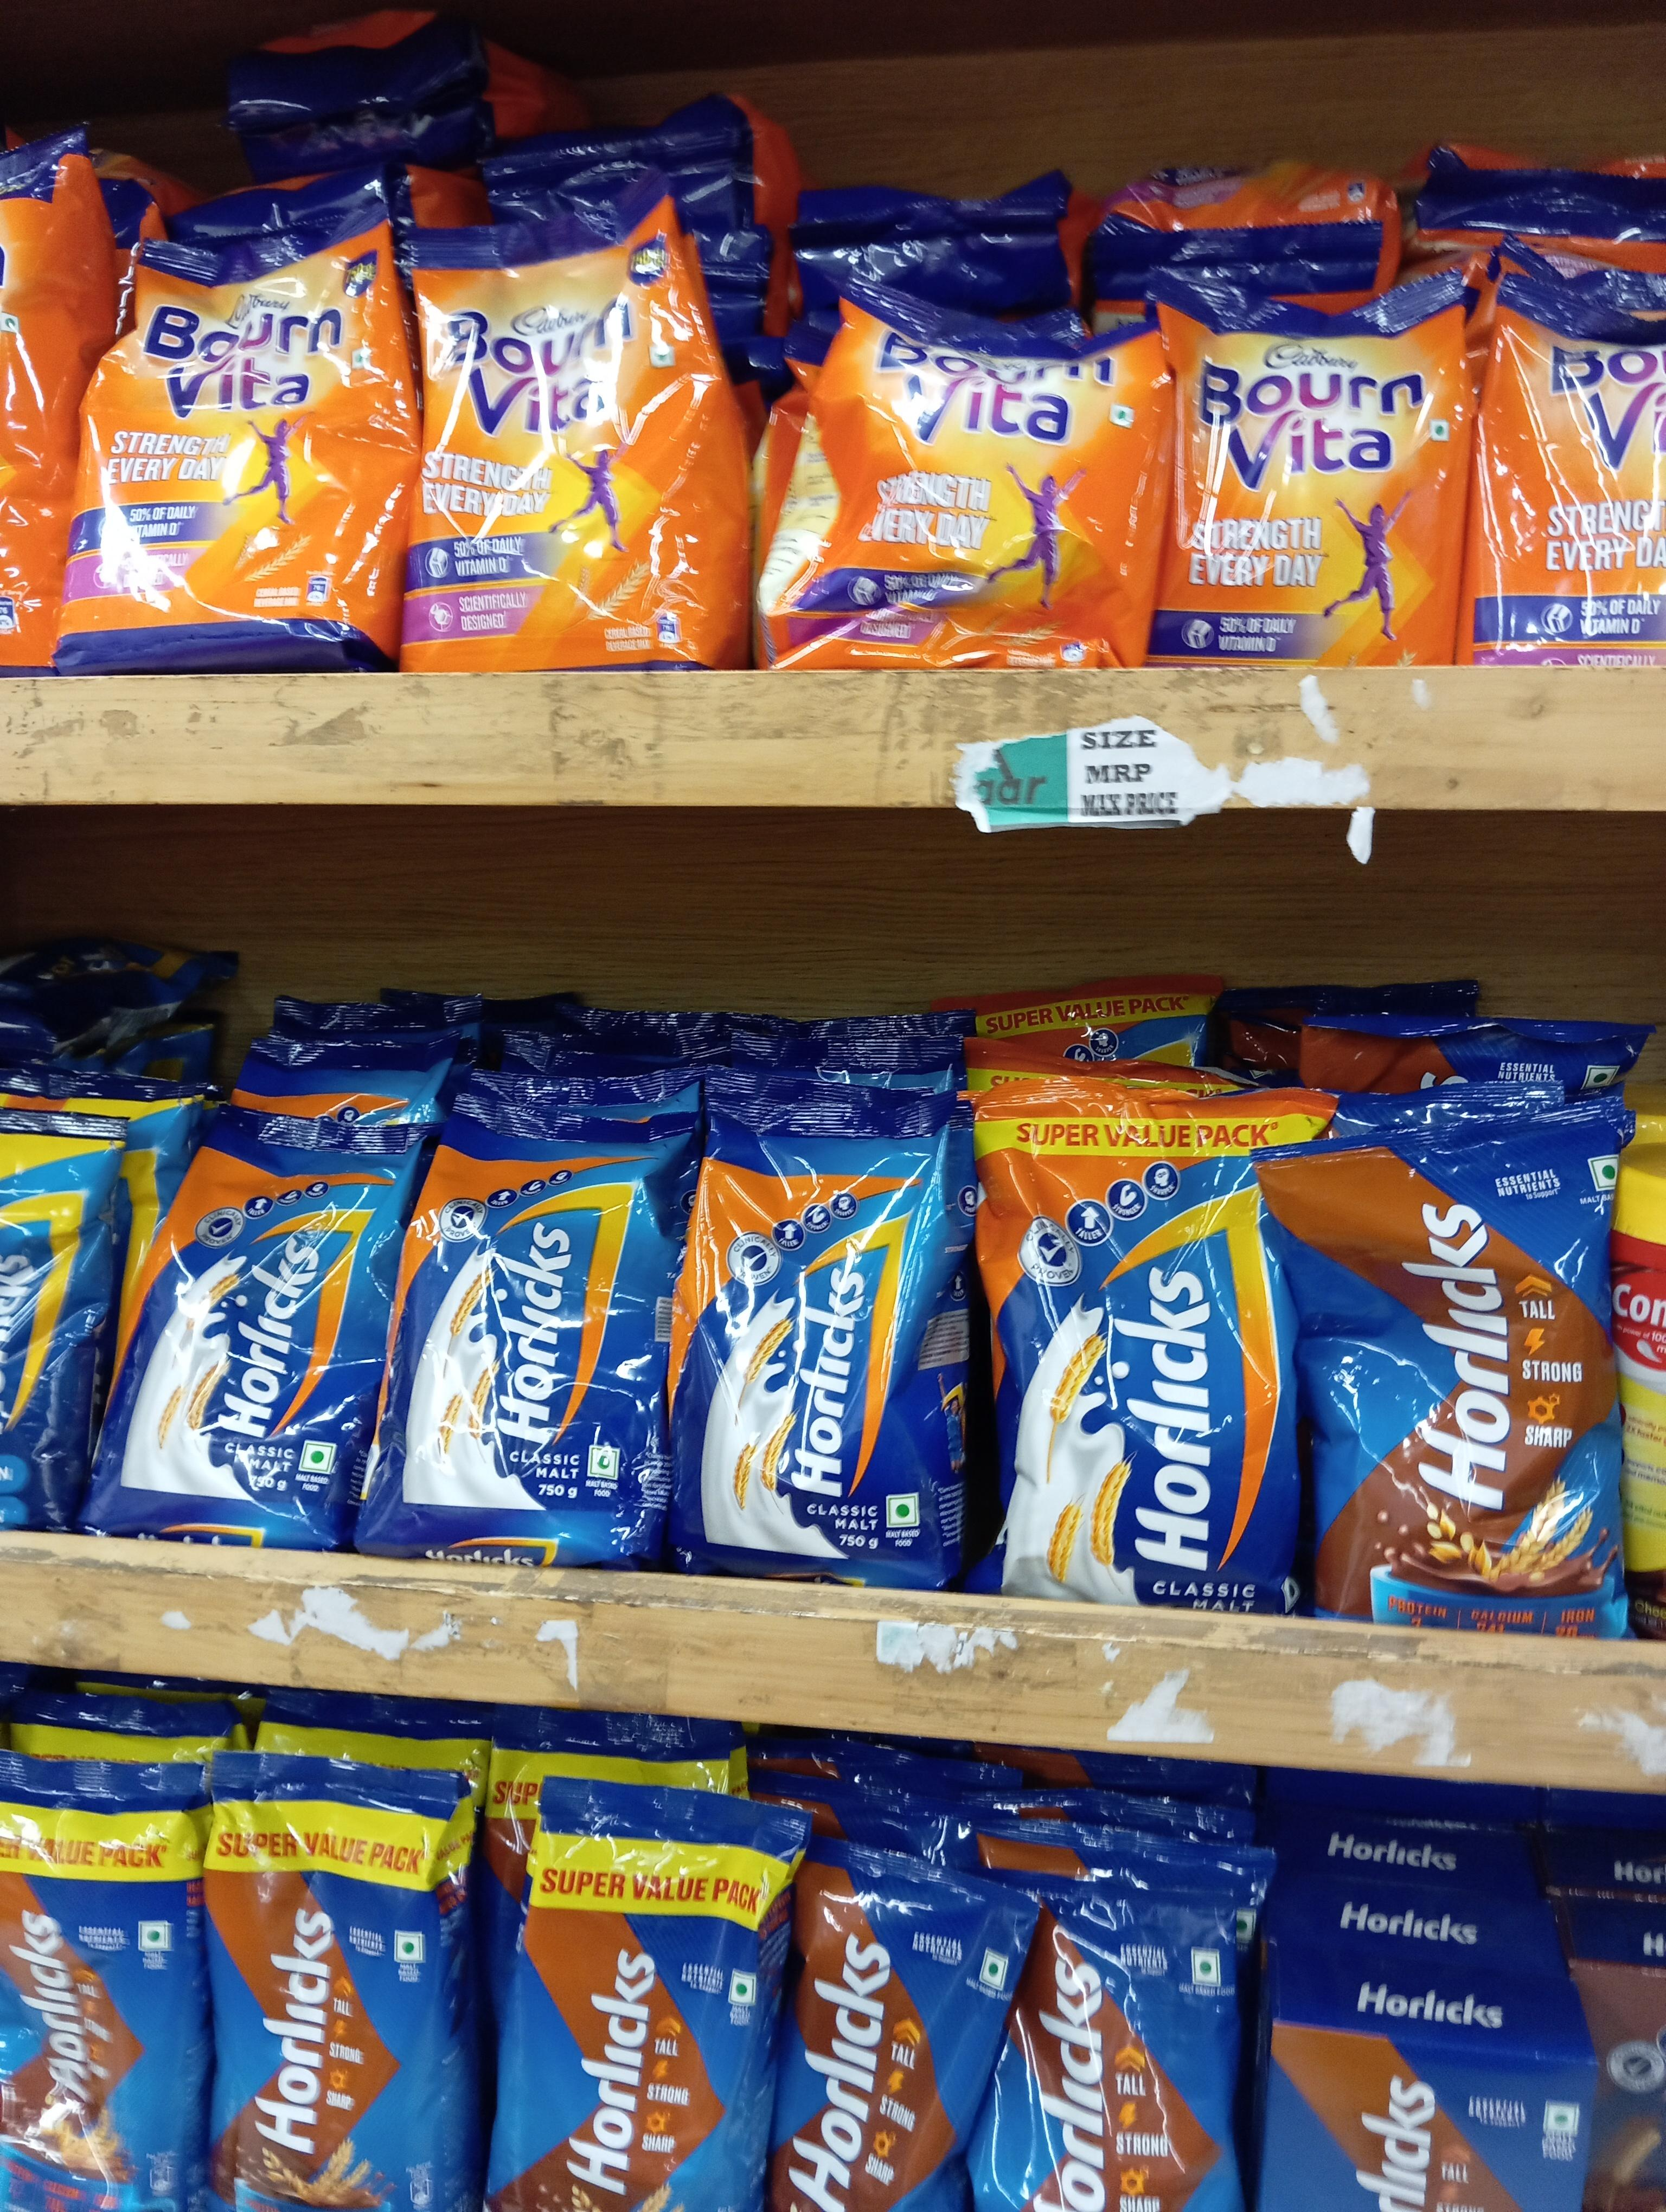BOURN_VITA_500_G_POUCH: (798, 299, 1141, 668), (1164, 275, 1456, 668)
BOURN_VITA_750_G_POUCH: (415, 215, 733, 671), (84, 199, 389, 671)
HORLICK_CHOCOLATE_750_G_POUCH: (1314, 1121, 1624, 1638), (205, 1763, 478, 2212), (504, 1785, 765, 2212), (2, 1745, 196, 2212), (991, 1880, 1234, 2212), (779, 1834, 971, 2212)
HORLICK_CLASSIC_MALT_750_G_POUCH: (980, 1081, 1293, 1617), (679, 1063, 945, 1584), (392, 1100, 663, 1565), (117, 1079, 355, 1548)
